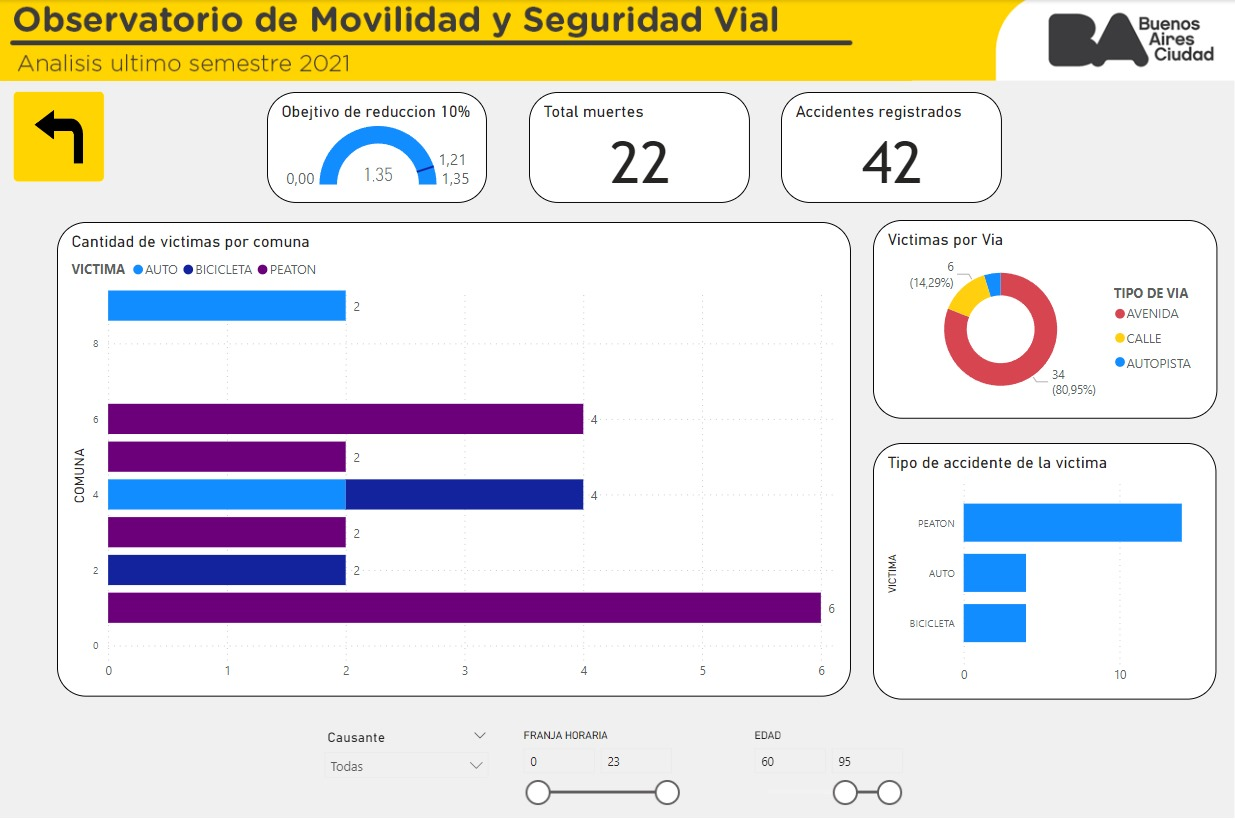

Layout of this report page (visuals, bound fields, positions):
{"tool":"powerbi","page":{"name":"Informe Homicidios","canvas":[1280,720],"ordinal":1},"visuals":[{"type":"image","box":[0,90,120,104.4],"z":0},{"type":"actionButton","title":"Borrar Segmentaciones","box":[1036.7,123.4,243.3,36.7],"z":1000},{"type":"card","title":"Total muertes","fields":{"Values":["Sum(HECHOS N.CANTIDAD VICTIMAS)"]},"box":[527.8,93.3,228.9,101.1],"z":2000},{"type":"card","title":"Accidentes registrados","fields":{"Values":["CountNonNull(HECHOS N.ID_hecho)"]},"box":[788.9,93.3,228.9,101.1],"z":3000},{"type":"kpi","title":"Reducción del 10% la Tasa de Víctimas del Último Semestre","fields":{"Indicator":["Medidas.TasaVictimasUltimoSemestre"],"Goal":["Medidas.ObjetivoVictimasSemestre"],"TrendLine":["HECHOS N.FECHA.Variación.Jerarquía de fechas.Año"]},"box":[271.1,93.3,228.9,101.1],"z":4000},{"type":"donutChart","title":"Victimas por Via","fields":{"Category":["HECHOS N.TIPO DE VIA"],"Y":["Sum(HECHOS N.CANTIDAD VICTIMAS)"]},"box":[905.4,207.8,356.7,205.6],"z":5000},{"type":"slicer","fields":{"Values":["HECHOS N.FRANJA HORARIA"]},"box":[13.3,581,243.3,118.9],"z":6000},{"type":"columnChart","title":"Tipo de accidente de la victima","fields":{"Y":["CountNonNull(HECHOS N.TIPO DE VIA)"],"Category":["HECHOS N.VICTIMA"],"Series":["HECHOS N.VICTIMA"]},"box":[905.4,433.3,356.7,266.7],"z":7000},{"type":"slicer","fields":{"Values":["HECHOS N.ACUSADO"]},"box":[13.3,338.9,243.3,225.6],"z":8000},{"type":"barChart","fields":{"Category":["HECHOS N.COMUNA","HECHOS N.TIPO DE VIA"],"Y":["Sum(HECHOS N.CANTIDAD VICTIMAS)"],"Series":["HECHOS N.VICTIMA"]},"box":[271.1,207.8,608.9,492.2],"z":9000},{"type":"slicer","fields":{"Values":["VICTIMAS N.EDAD"]},"box":[13.3,205.6,243.3,118.9],"z":10000}]}

Visuals, with their boxes on the page's 1280x720 design canvas (x1, y1, x2, y2). These are canvas units, not pixel positions in the 1235x819 screenshot, which may show the page scaled, cropped or inside an application window:
image: x1=0 y1=90 x2=120 y2=194
"Borrar Segmentaciones" actionButton: x1=1037 y1=123 x2=1280 y2=160
"Total muertes" card: x1=528 y1=93 x2=757 y2=194
"Accidentes registrados" card: x1=789 y1=93 x2=1018 y2=194
"Reducción del 10% la Tasa de Víctimas del Último Semestre" kpi: x1=271 y1=93 x2=500 y2=194
"Victimas por Via" donutChart: x1=905 y1=208 x2=1262 y2=413
slicer - HECHOS N.FRANJA HORARIA: x1=13 y1=581 x2=257 y2=700
"Tipo de accidente de la victima" columnChart: x1=905 y1=433 x2=1262 y2=700
slicer - HECHOS N.ACUSADO: x1=13 y1=339 x2=257 y2=564
barChart - HECHOS N.COMUNA x HECHOS N.TIPO DE VIA: x1=271 y1=208 x2=880 y2=700
slicer - VICTIMAS N.EDAD: x1=13 y1=206 x2=257 y2=324
